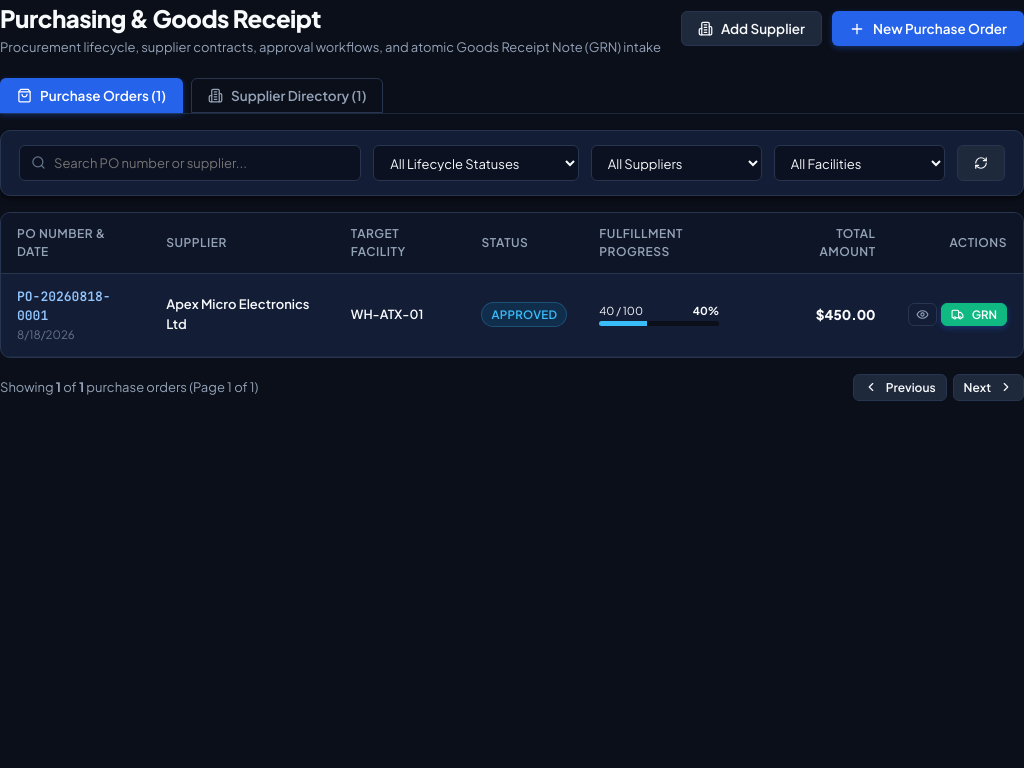
PurchasingPage Component › opens Goods Receipt (GRN) modal for approved PO
Expected: the text "PO-20260818-0001" is shown, left=17, top=288, right=111, bottom=324
Click the button "GRN" at (974, 314), box left=941, top=303, right=1007, bottom=326
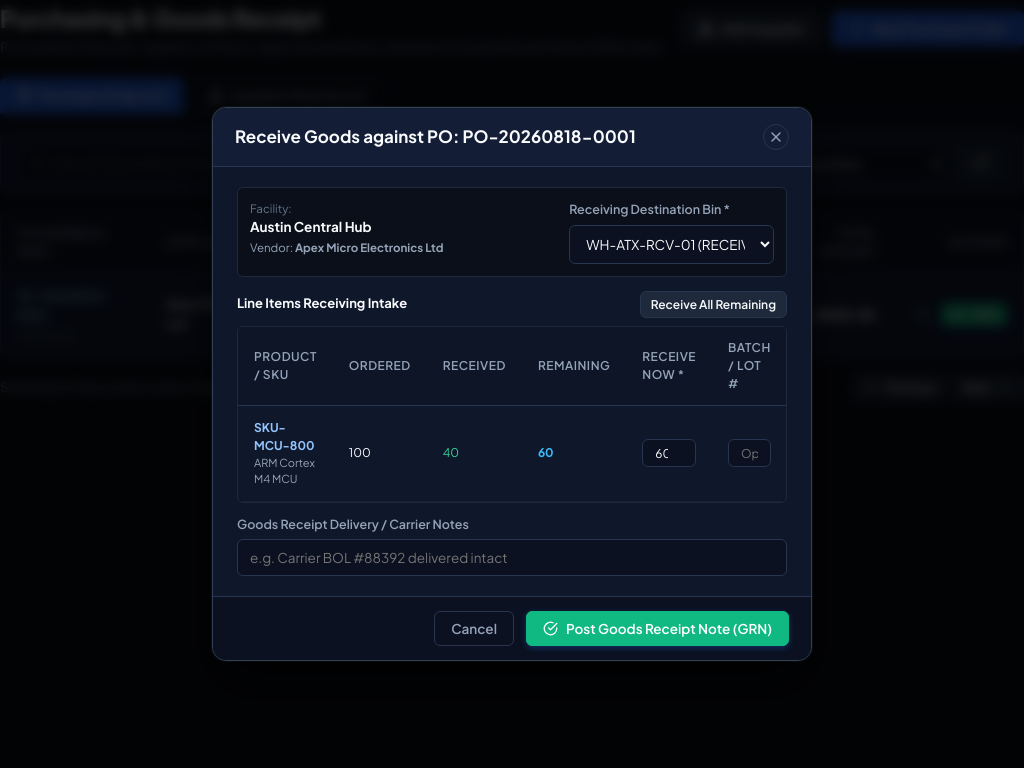
Now the heading "Receive Goods against PO: PO-20260818-0001" is shown, box left=235, top=124, right=636, bottom=150
Now the text "Receiving Destination Bin *" is shown, box left=569, top=201, right=730, bottom=217
Now the button "Receive All Remaining" is shown, box left=640, top=290, right=787, bottom=318
